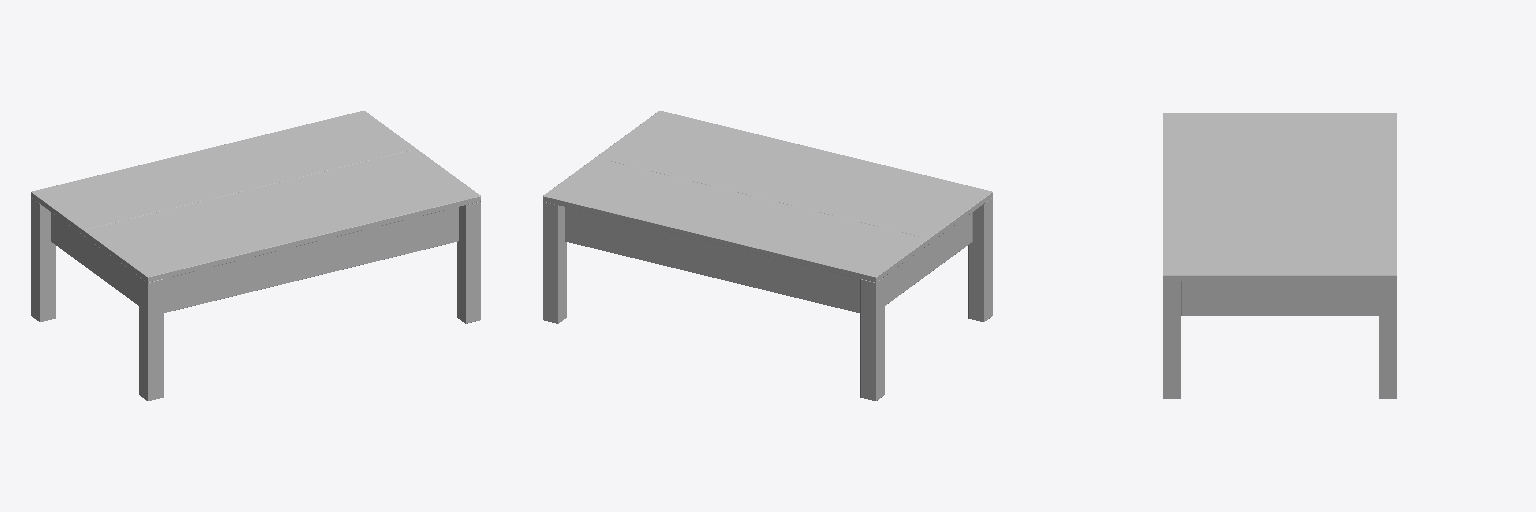
File: coffeetableTrulstorp_ikea.obj
3 views of the same model, side by side, from view 1: azimuth 30°, elevation 25°; view 2: azimuth 150°, elevation 25°; view 3: azimuth 270°, elevation 25° (orthographic).
Parts seen in each view (by area): view 1: coffeTable_merge_Cube.030; view 2: coffeTable_merge_Cube.030; view 3: coffeTable_merge_Cube.030.
Part boxes in pixels (x1,y1,x2,y2): coffeTable_merge_Cube.030: (31,111,480,400); coffeTable_merge_Cube.030: (543,111,992,400); coffeTable_merge_Cube.030: (1163,113,1396,398).
Bounding box in the file's own units: 1.15 × 0.4091 × 0.6992.